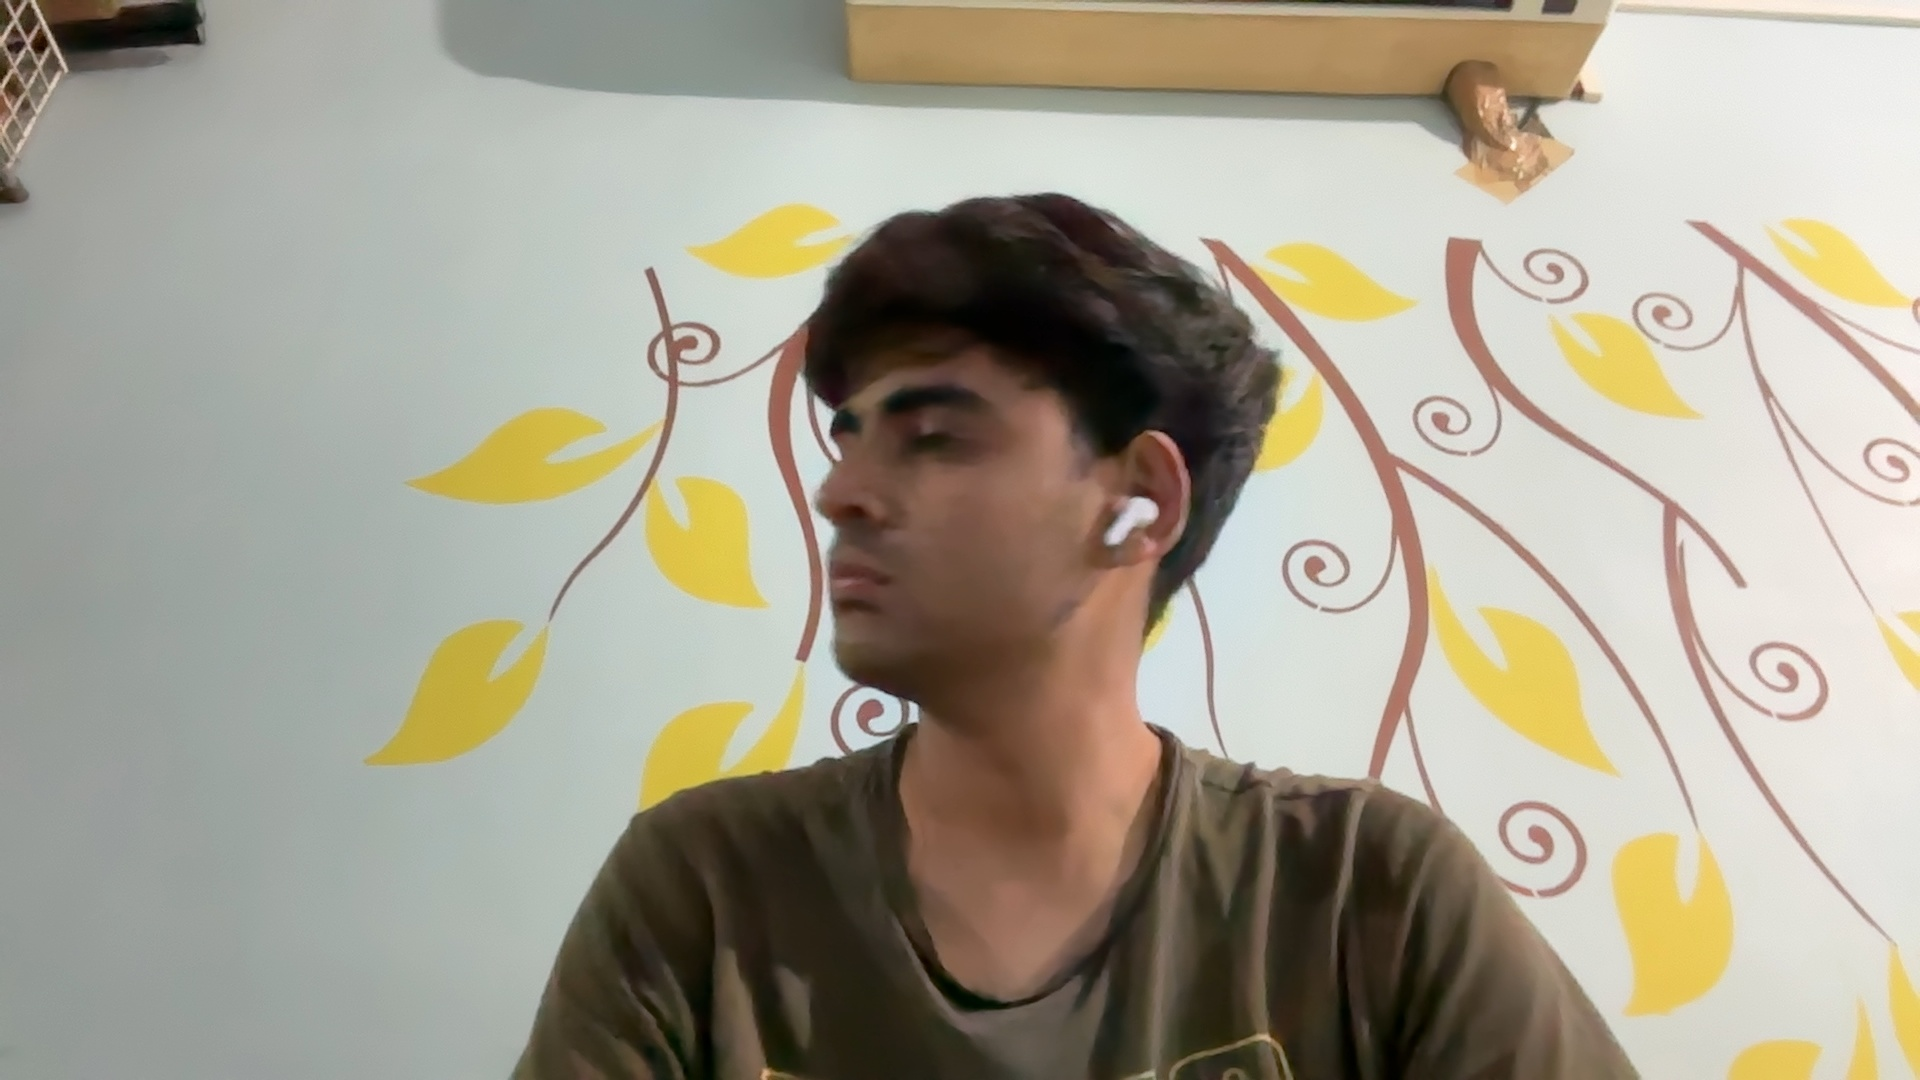No Mask: (804, 469, 1090, 694)
